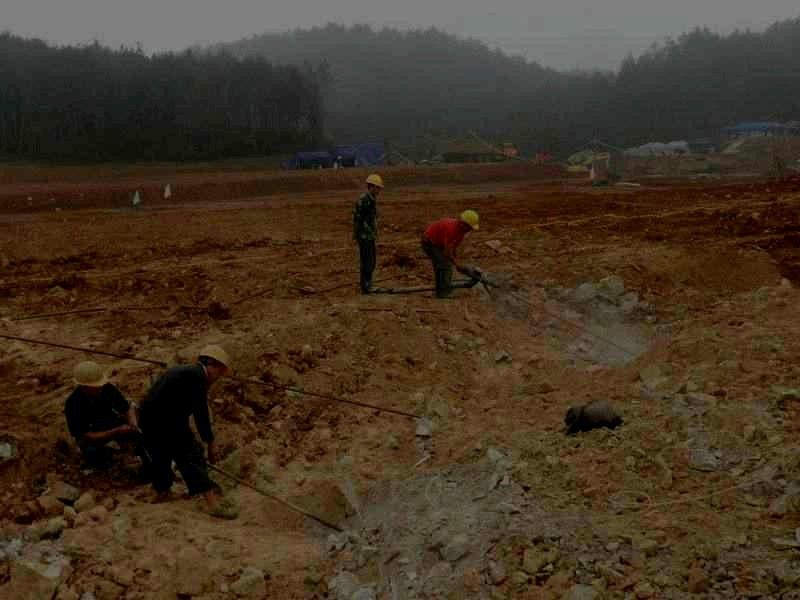helmet: (71, 360, 108, 395), (197, 345, 229, 383), (365, 174, 384, 198), (460, 210, 479, 234)
